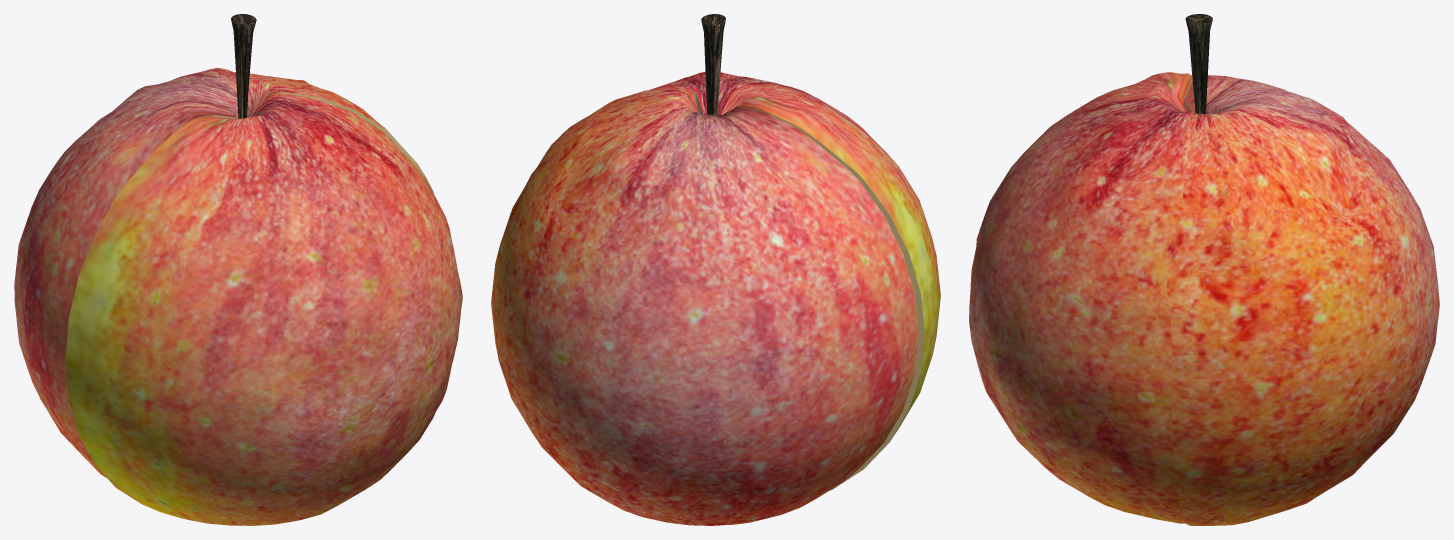
Rendered from Apple.glb.
The picture shows the model from 3 angles, left to right: view 1: azimuth 30°, elevation 25°; view 2: azimuth 150°, elevation 25°; view 3: azimuth 270°, elevation 25°; orthographic projection.
Visible parts, largest first — view 1: Apple1.002, Seed.002, Seed.003, Seed.004; view 2: Seed.002, Apple1.002, Apple1.003, Seed.003; view 3: Seed.002, Apple1.002, Seed.003.
Part boxes in pixels (<box>): Apple1.002: <box>65,93,462,525</box>; Seed.002: <box>14,67,387,477</box>; Seed.003: <box>231,14,256,118</box>; Seed.004: <box>197,92,434,194</box>; Seed.002: <box>491,88,918,525</box>; Apple1.002: <box>649,72,940,439</box>; Apple1.003: <box>682,89,924,490</box>; Seed.003: <box>701,14,725,114</box>; Seed.002: <box>1166,75,1439,525</box>; Apple1.002: <box>969,72,1196,523</box>; Seed.003: <box>1185,14,1212,113</box>.
Bounding box in the file's own units: 4.62 × 5.44 × 4.87.
13 materials, 2 textured.
